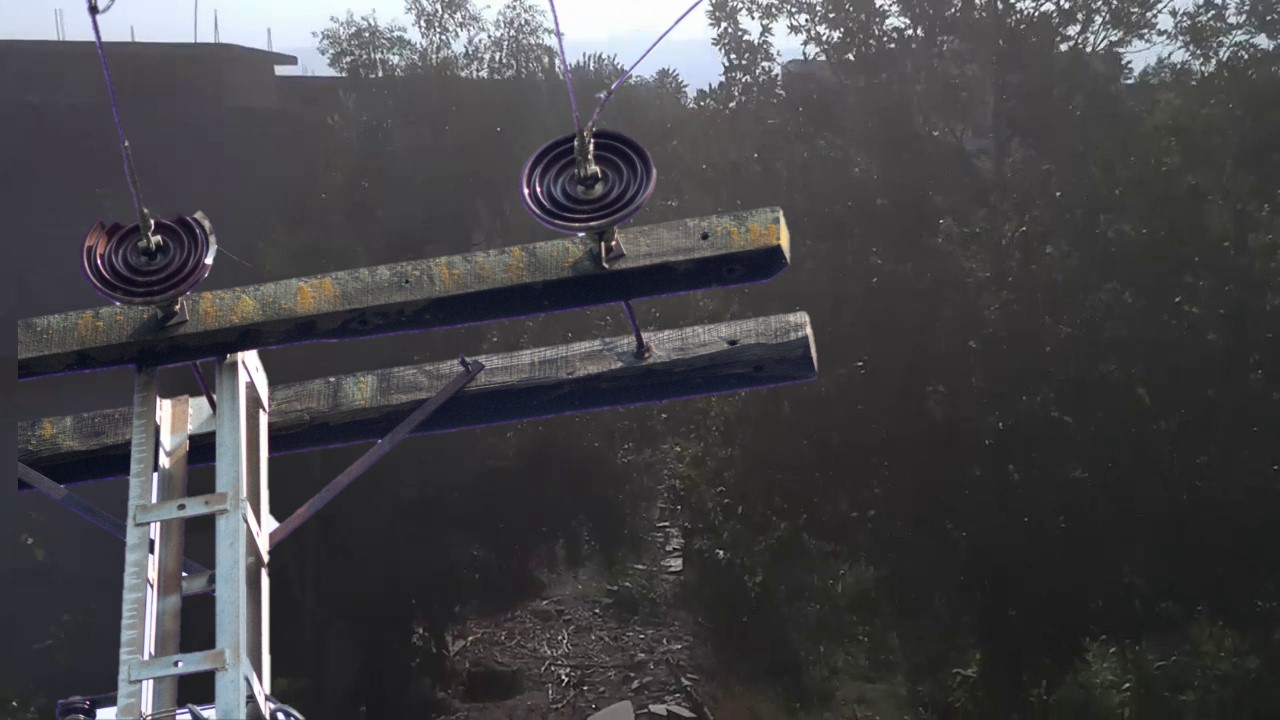defect_disc: (78, 204, 221, 304)
insulator_disc: (518, 128, 661, 233)
